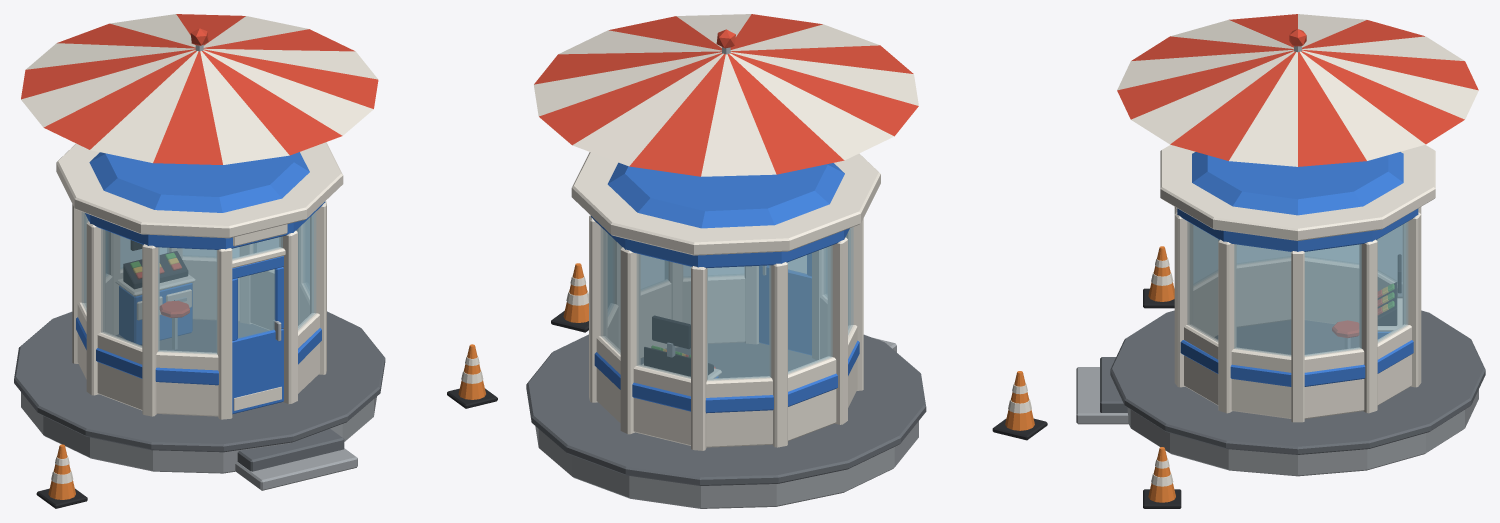
Rendered from traffic-police-booth.glb.
The picture shows the model from 3 angles, left to right: view 1: azimuth 30°, elevation 25°; view 2: azimuth 150°, elevation 25°; view 3: azimuth 270°, elevation 25°; orthographic projection. The views are drawn at different scales.
Parts seen in each view (by area): view 1: Umbrella_Canopy, Platform_Cap, Wall_Lower, Roof, Roof_Cap, Window_9, Platform, Door, Window_8, Post_9, Post_8, Post_0 (+20 smaller); view 2: Umbrella_Canopy, Platform_Cap, Wall_Lower, Roof, Roof_Cap, Platform, Window_6, Window_5, Window_7, Wall_Stripe, Post_5, Post_7 (+17 smaller); view 3: Umbrella_Canopy, Platform_Cap, Wall_Lower, Roof, Roof_Cap, Platform, Window_2, Window_3, Window_1, Window_4, Wall_Stripe, Post_4 (+14 smaller).
Part boxes in pixels (box(x1,y1,x2,y2)): Umbrella_Canopy: box(21, 14, 378, 164); Platform_Cap: box(14, 311, 385, 452); Wall_Lower: box(77, 255, 319, 416); Roof: box(56, 142, 343, 238); Roof_Cap: box(89, 152, 309, 212); Window_9: box(158, 247, 217, 354); Platform: box(21, 392, 376, 473); Door: box(232, 256, 283, 414); Window_8: box(101, 229, 142, 347); Post_9: box(142, 244, 159, 416); Post_8: box(86, 221, 105, 395); Post_0: box(217, 248, 232, 419); Umbrella_Canopy: box(534, 14, 918, 176); Platform_Cap: box(526, 334, 926, 485); Wall_Lower: box(596, 274, 857, 447); Roof: box(571, 152, 880, 255); Roof_Cap: box(607, 162, 844, 228); Platform: box(535, 421, 918, 508); Window_6: box(707, 265, 770, 380); Window_5: box(637, 254, 691, 378); Window_7: box(787, 245, 832, 373); Wall_Stripe: box(594, 340, 859, 413); Post_5: box(620, 247, 640, 434); Post_7: box(769, 262, 787, 447); Umbrella_Canopy: box(1117, 14, 1478, 166); Platform_Cap: box(1110, 310, 1485, 454); Wall_Lower: box(1184, 256, 1411, 418); Roof: box(1160, 144, 1435, 240); Roof_Cap: box(1192, 152, 1403, 215); Platform: box(1127, 389, 1478, 476); Window_2: box(1234, 244, 1291, 356); Window_3: box(1304, 244, 1361, 356); Window_1: box(1187, 221, 1219, 342); Window_4: box(1376, 222, 1407, 342); Wall_Stripe: box(1180, 340, 1413, 386); Post_4: box(1359, 239, 1377, 413).
Size of the model in its own units: 22.7 by 18.15 by 18.1.
